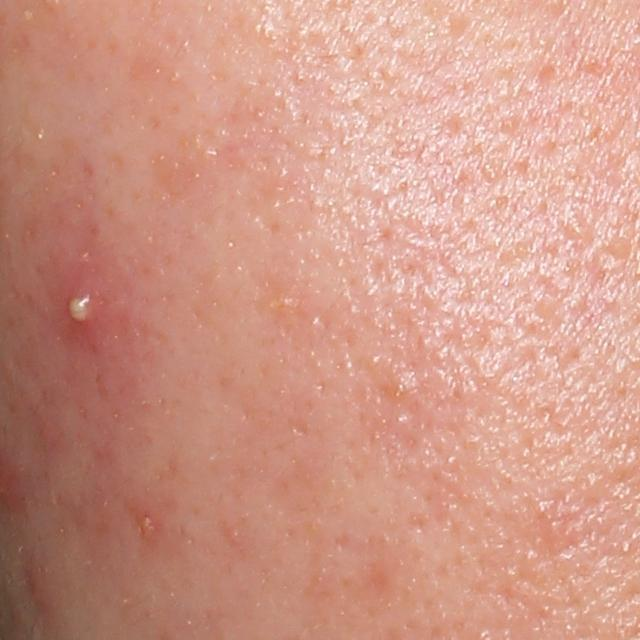papule: (28, 565, 51, 619)
pustule: (50, 272, 112, 339)
